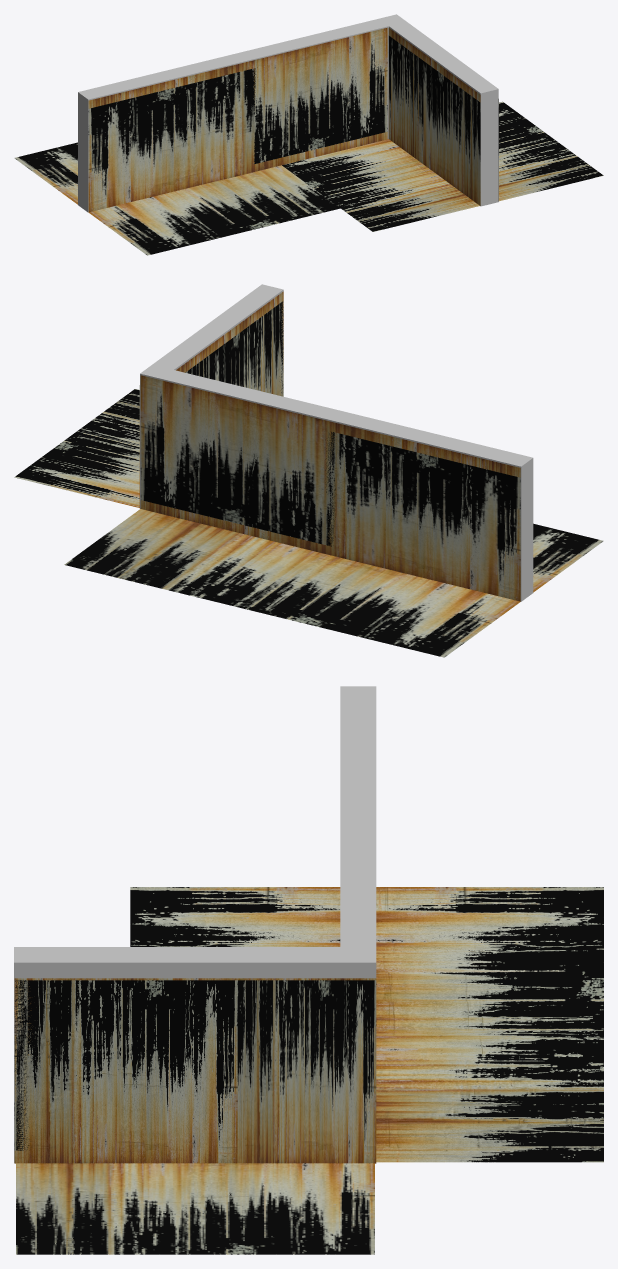
The model's file is TiledBrick15.FBX.
3 renders of one model, top to bottom at view 1: azimuth 30°, elevation 25°; view 2: azimuth 150°, elevation 25°; view 3: azimuth 270°, elevation 25°, orthographic. The views are drawn at different scales.
Parts seen in each view (by area): view 1: TiledBrick15; view 2: TiledBrick15; view 3: TiledBrick15.
Part boxes in pixels (x1,y1,x2,y2): TiledBrick15: [14, 14, 603, 255]; TiledBrick15: [14, 284, 603, 657]; TiledBrick15: [14, 686, 603, 1254].
Size of the model in its own units: 482 by 123 by 327.
